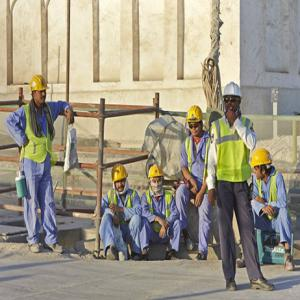white: (225, 83, 243, 113)
yellow: (252, 149, 273, 181), (30, 76, 49, 104), (188, 106, 204, 136), (112, 163, 129, 191), (148, 166, 164, 192)
